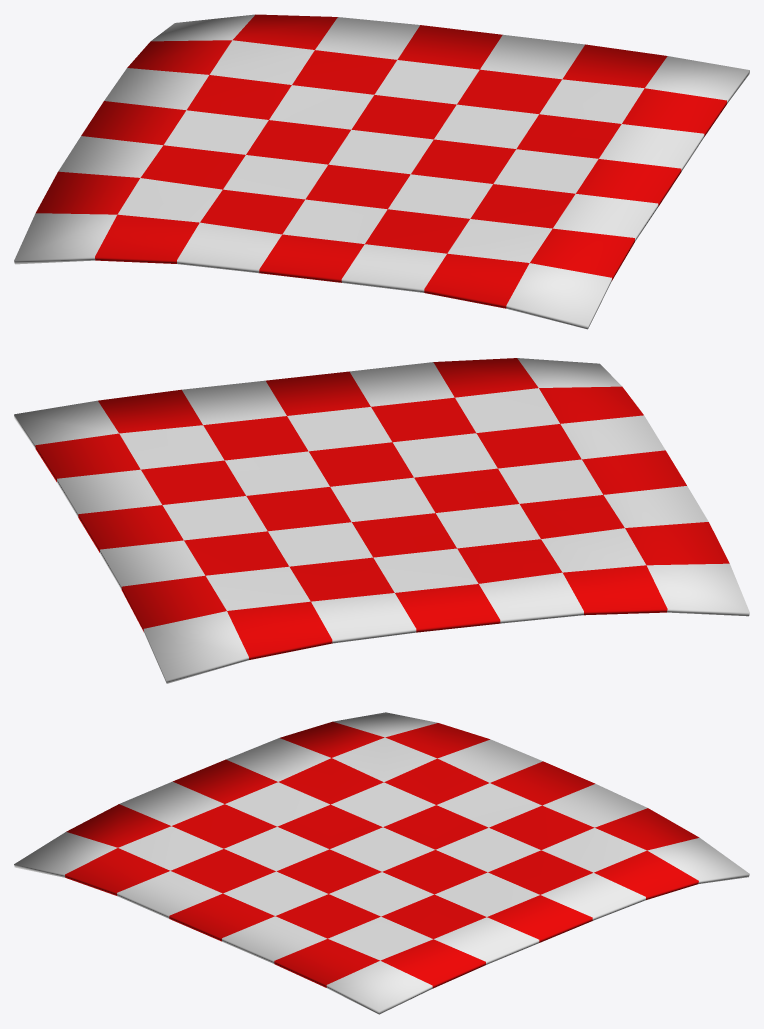
File: PicnicCloth.fbx
The picture shows the model from 3 angles, top to bottom: view 1: azimuth 30°, elevation 25°; view 2: azimuth 150°, elevation 25°; view 3: azimuth 270°, elevation 25°; orthographic projection. The views are drawn at different scales.
Visible parts, largest first — view 1: PicnicCloth; view 2: PicnicCloth; view 3: PicnicCloth.
Boxes of the visible parts, box(x1,y1,x2,y2) form: PicnicCloth: box(14, 14, 749, 329); PicnicCloth: box(14, 358, 749, 683); PicnicCloth: box(14, 712, 749, 1014).
Size of the model in its own units: 212 by 8.78 by 211.
